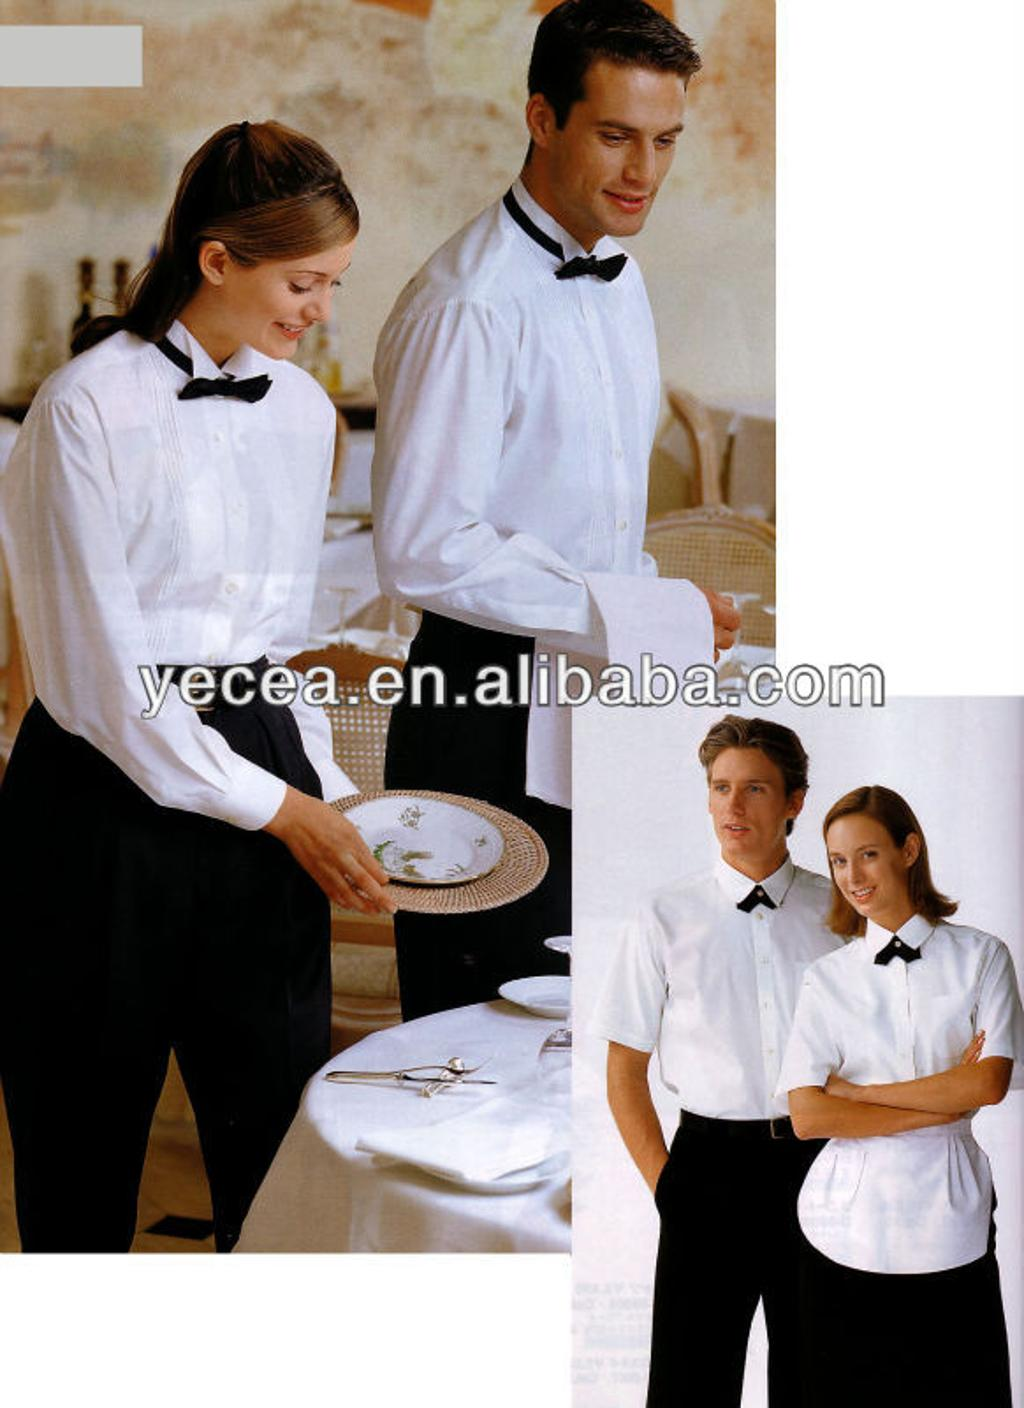face: (559, 55, 691, 239), (231, 226, 355, 361), (702, 749, 790, 862), (823, 820, 900, 911)
